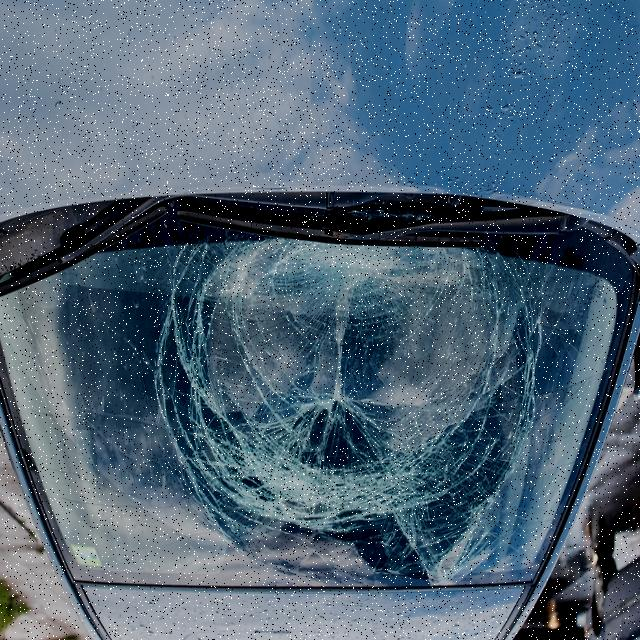Windshield: (165, 244, 539, 578)
